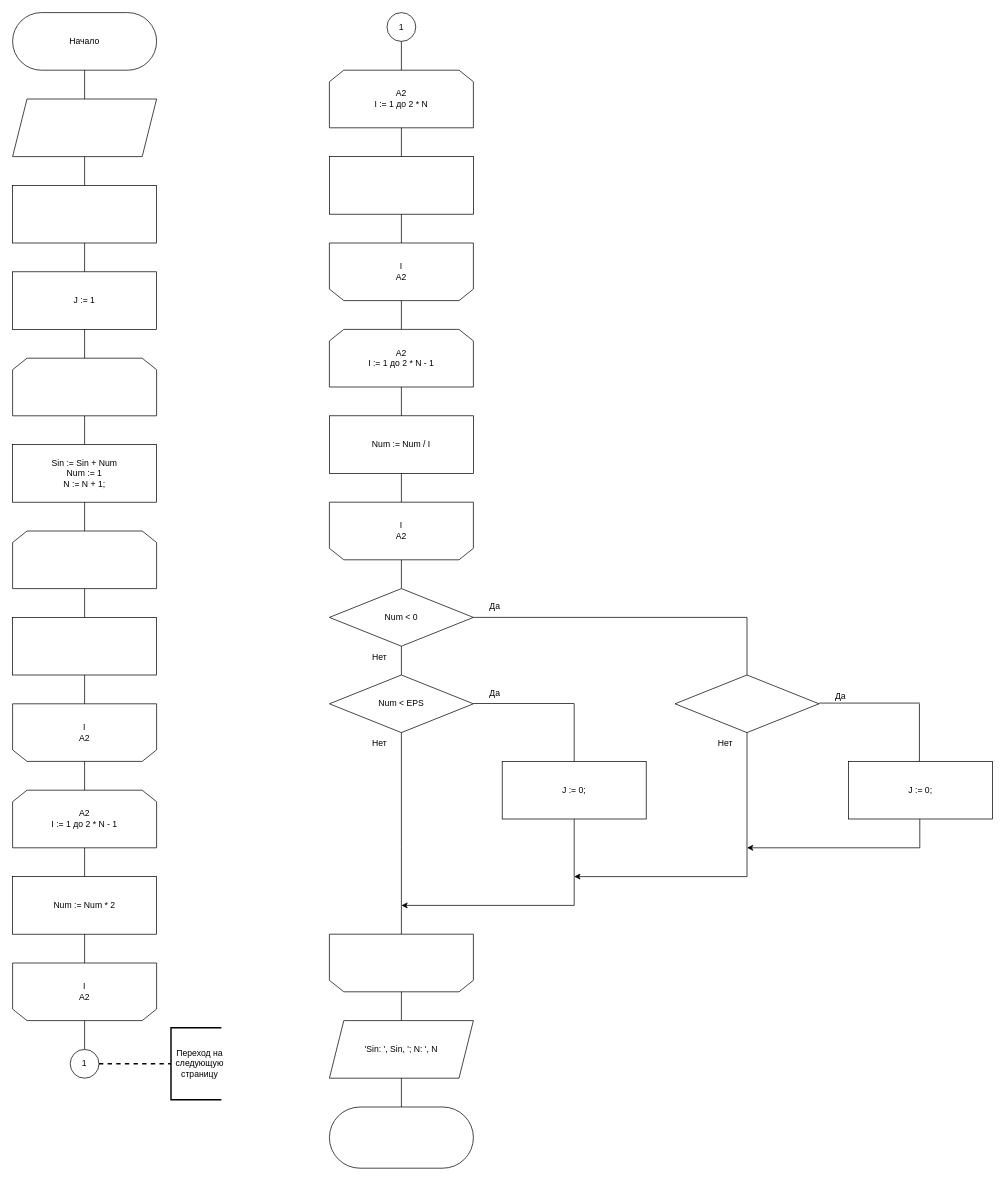
The diagram is 1005 pixels wide and 1181 high, and some of its shapes have lost their labels. The shapes that lost their labels are listed below. From the top down, each one's box as (x1, y1, x2, y2) in pixels, then its label:
(12, 98, 157, 157): EPS, X
(329, 156, 473, 214): Num := Num * X
(12, 185, 157, 243): Sin := 0; N := 0; Num := 0;
(12, 357, 157, 416): A1 J = 1
(12, 530, 157, 589): A2 I := 1 до N - 1
(12, 617, 157, 675): Num := Num * (-1)
(674, 674, 819, 733): -Num < EPS
(329, 933, 473, 992): A1
(329, 1106, 473, 1168): Конец
